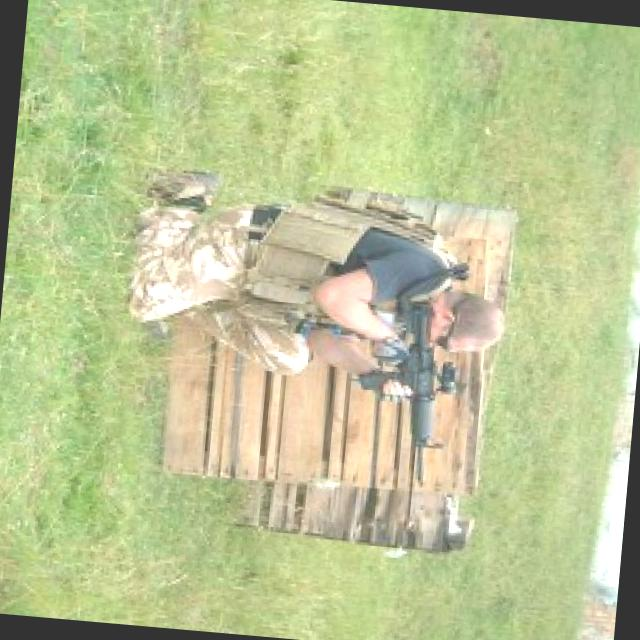long weapon: (370, 348, 467, 496)
